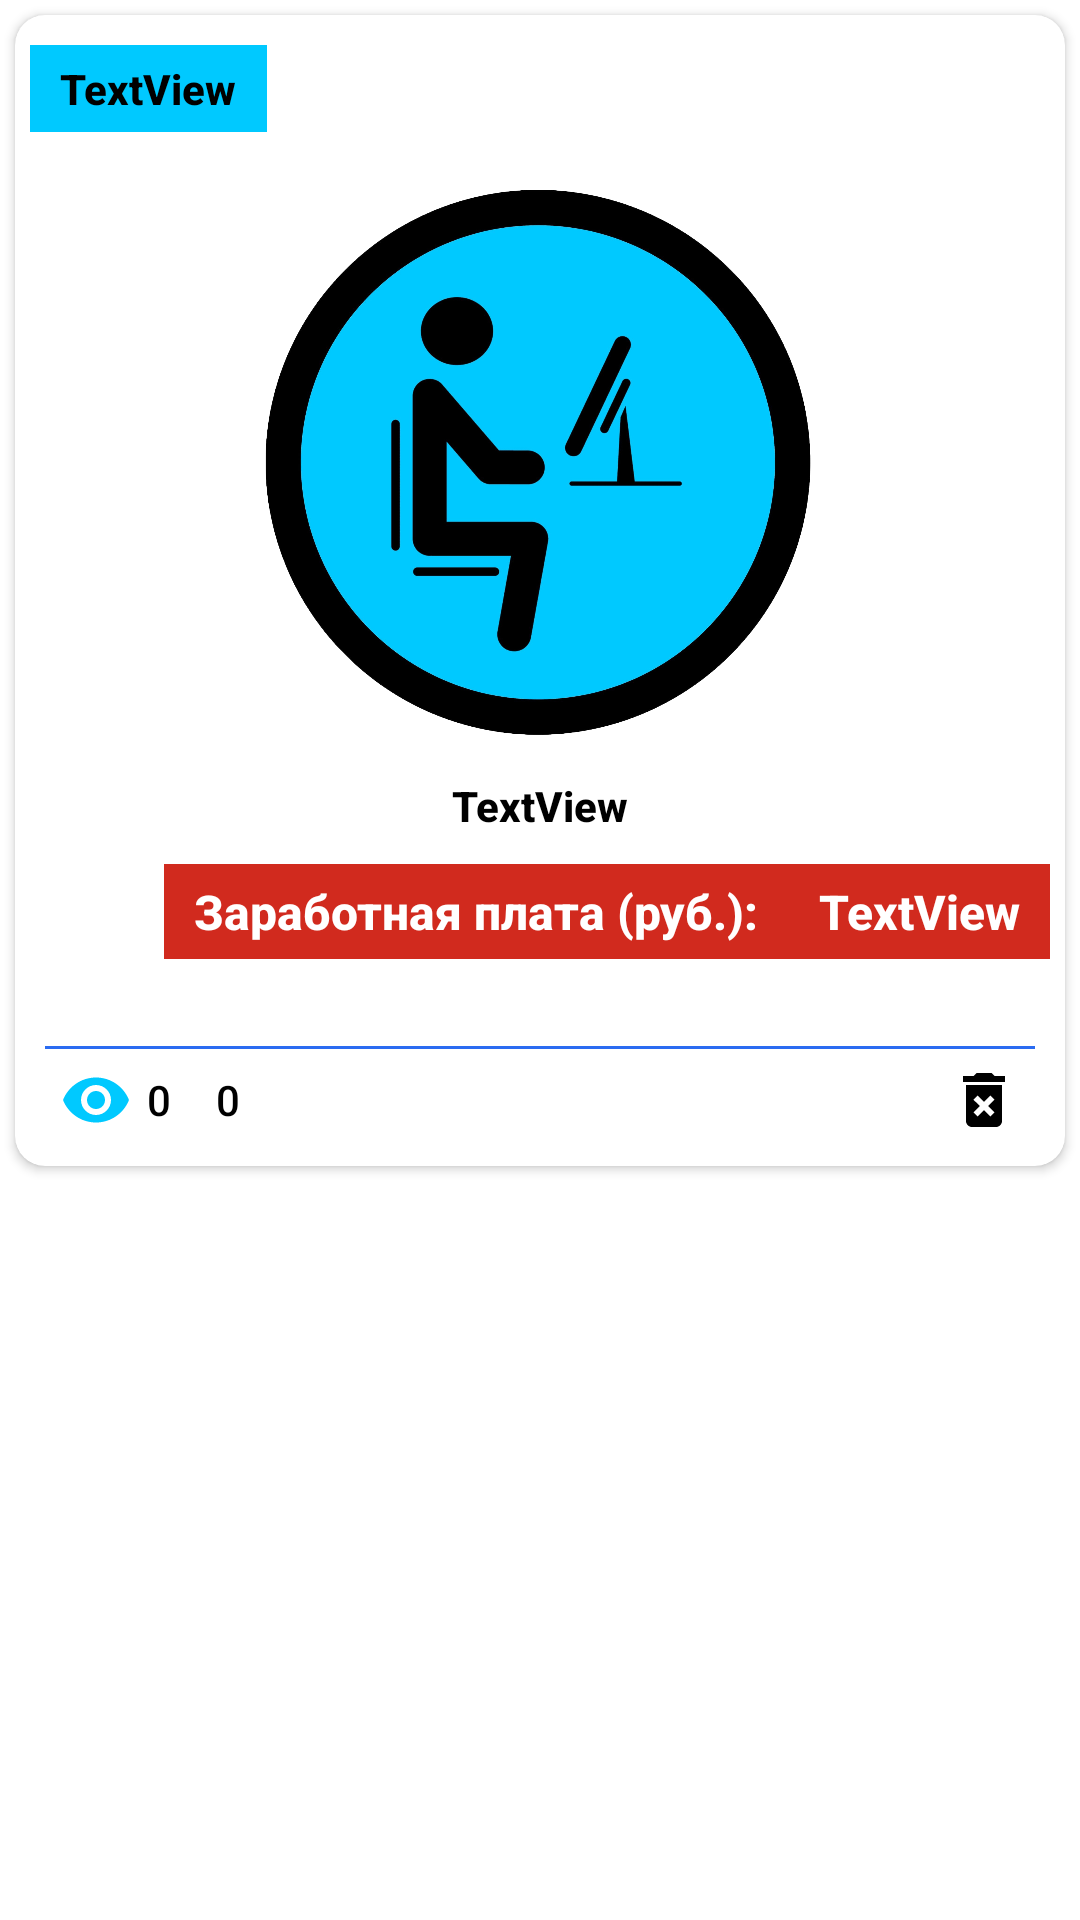

Icons on this 1080px x 1920px Android screen, each with its box as rect(x1, y1, x2, y2):
delete: rect(963, 1073, 1005, 1127)
eye: rect(63, 1077, 129, 1123)
